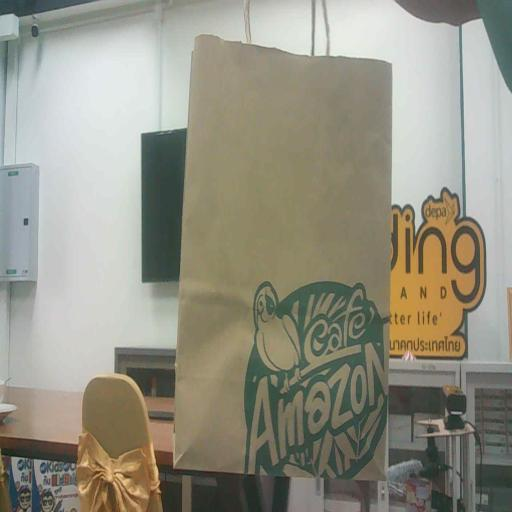bag: (167, 14, 401, 498)
